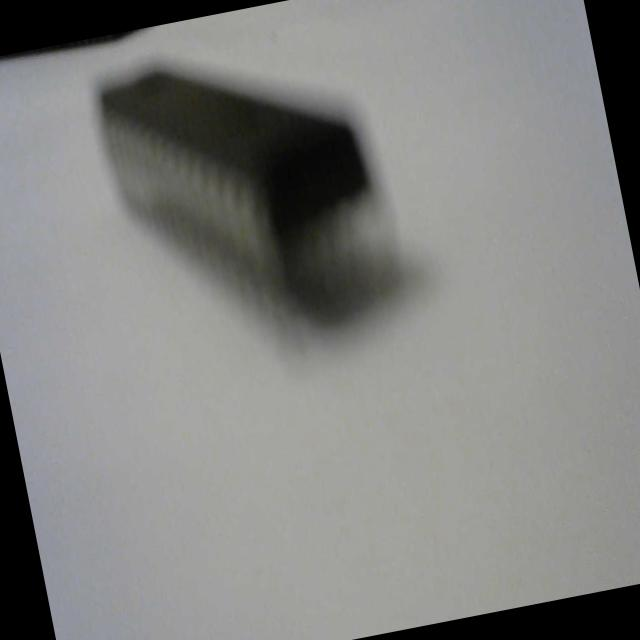atmega: (85, 18, 421, 374)
